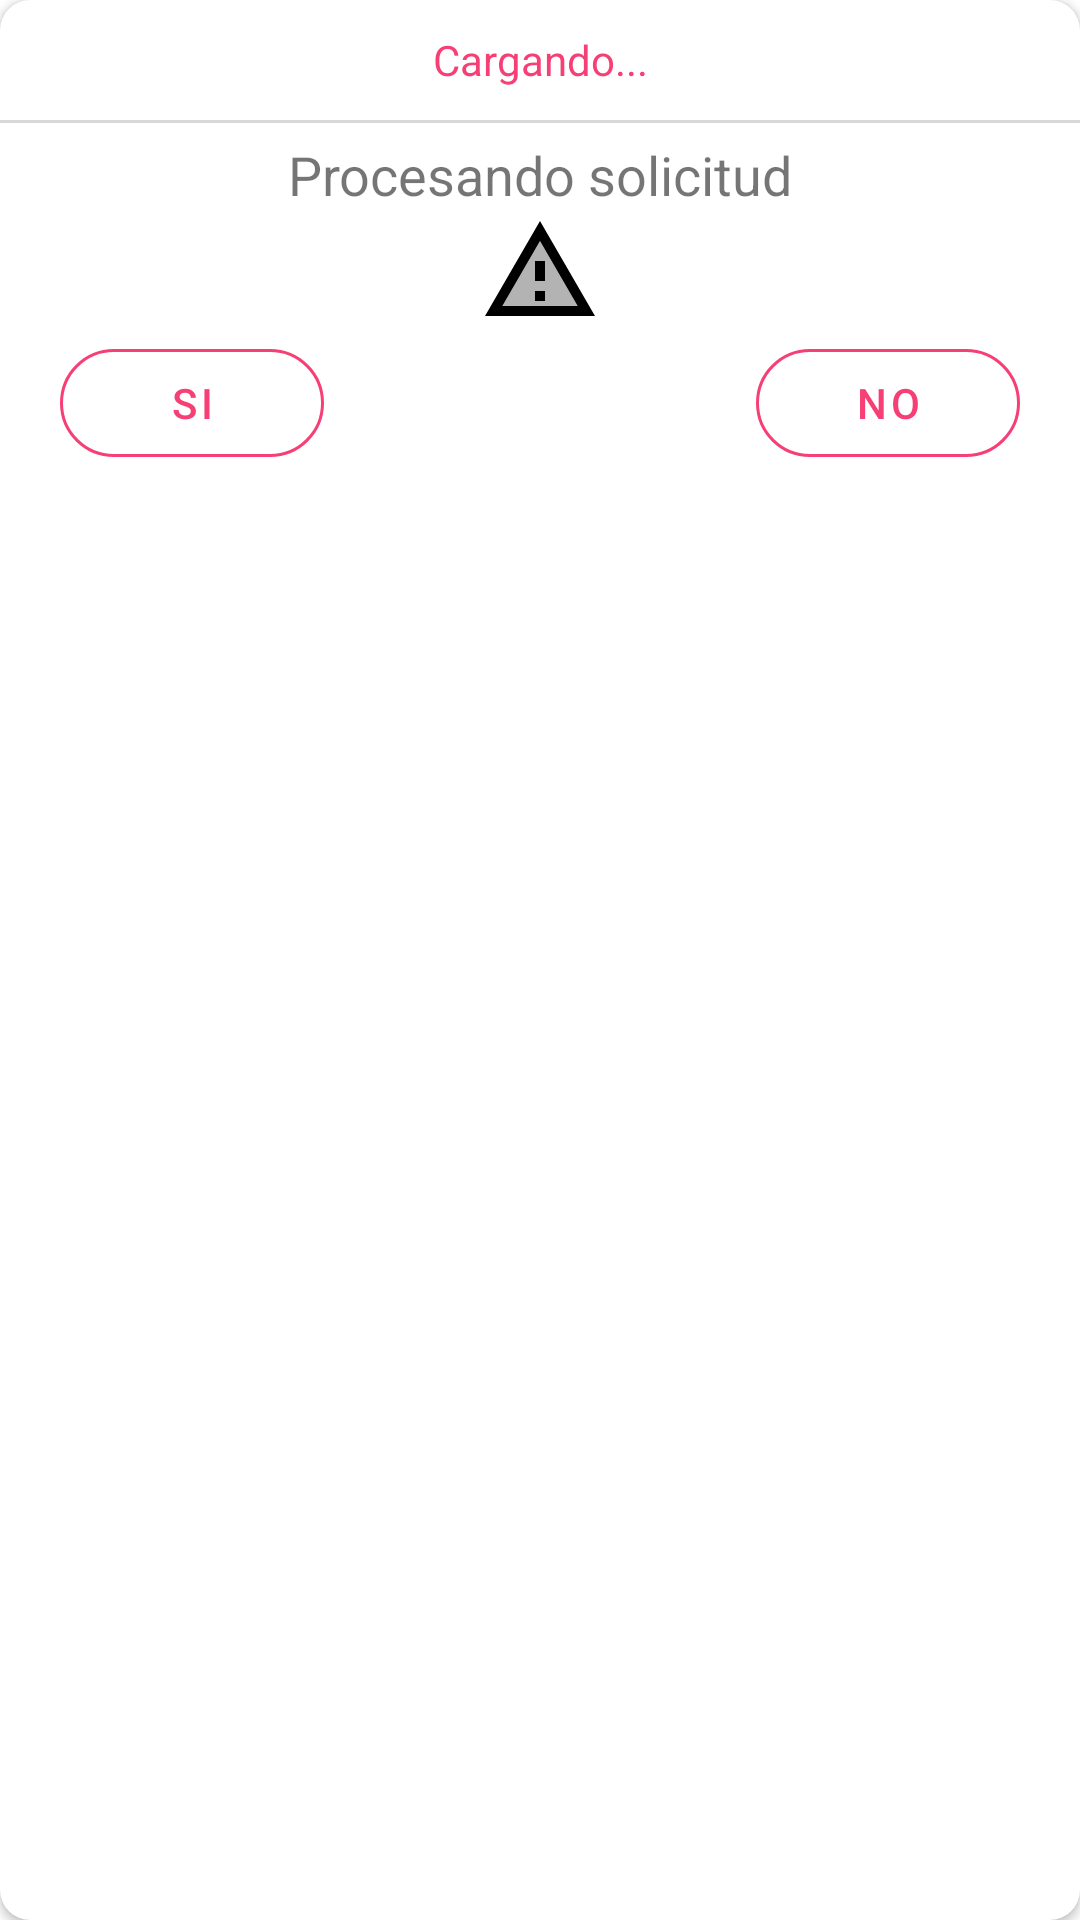

Icons on this 1080w x 1920h Android screen, each with the point to tap as point (x, y):
alerta: point (540, 268)
